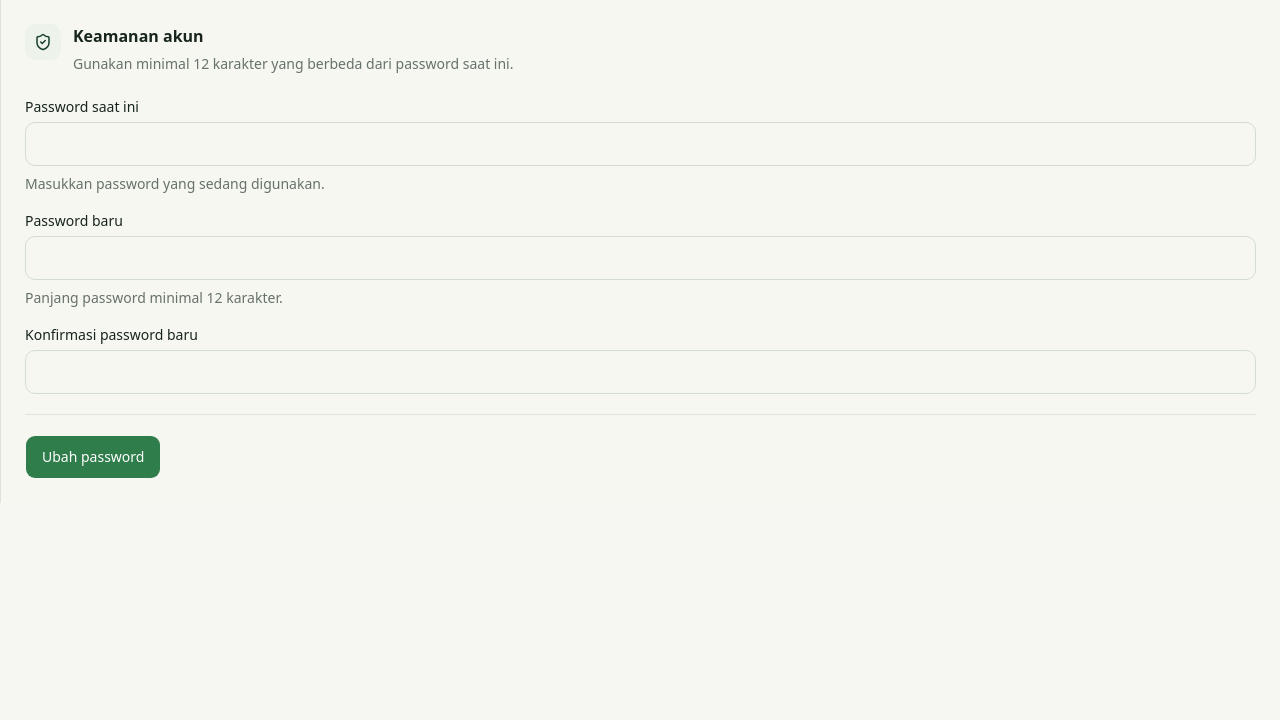
it: does not submit a password when confirmation differs
Expected: the heading "Keamanan akun" is shown, [73, 25, 204, 47]
Type "Current-password-2026" into the password field labelled "Password saat ini" at point(640, 144), box [25, 122, 1256, 166]
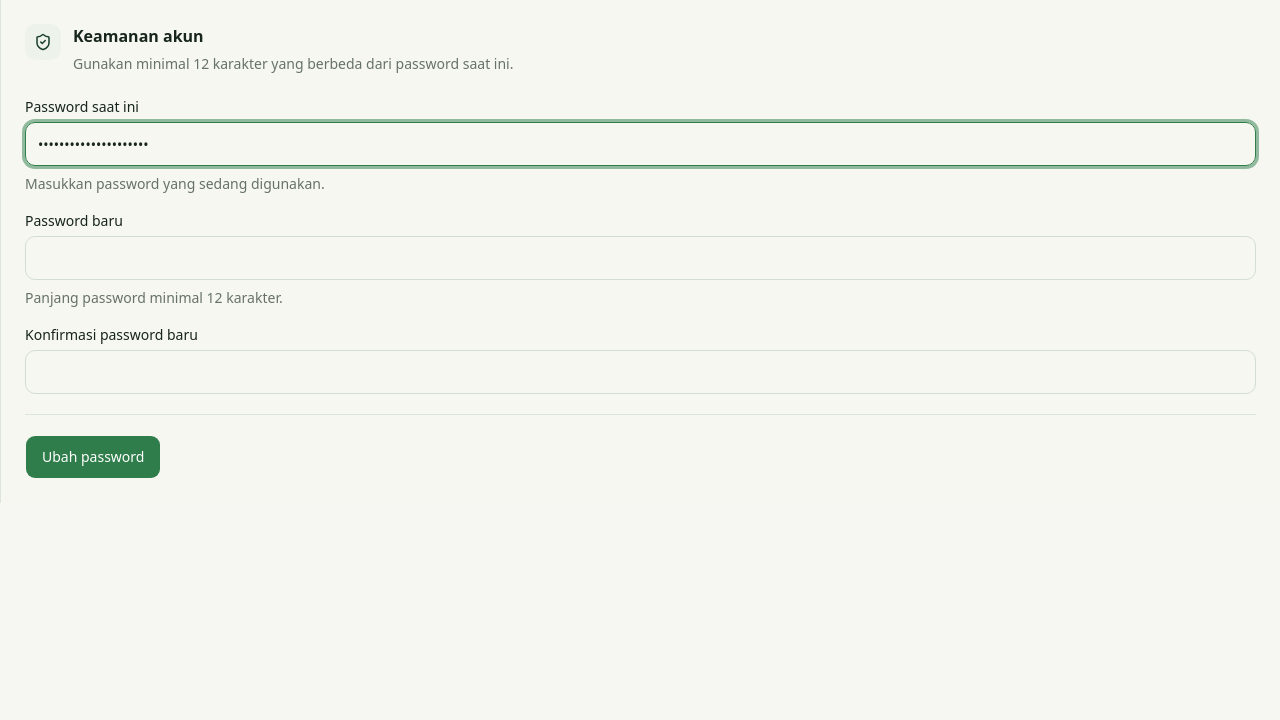
Type "New-password-2026" into the password field labelled "Password baru" at point(640, 258), box [25, 236, 1256, 280]
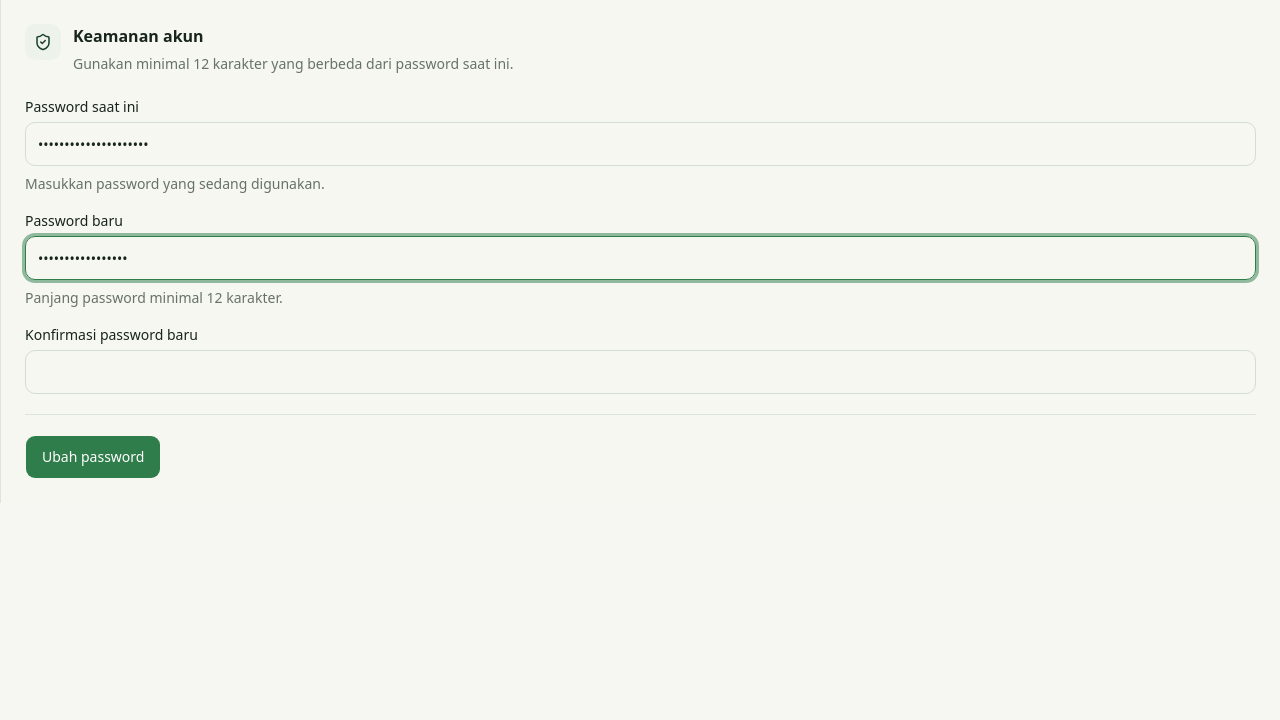
Type "Different-password-2026" into the password field labelled "Konfirmasi password baru" at point(640, 372), box [25, 350, 1256, 394]
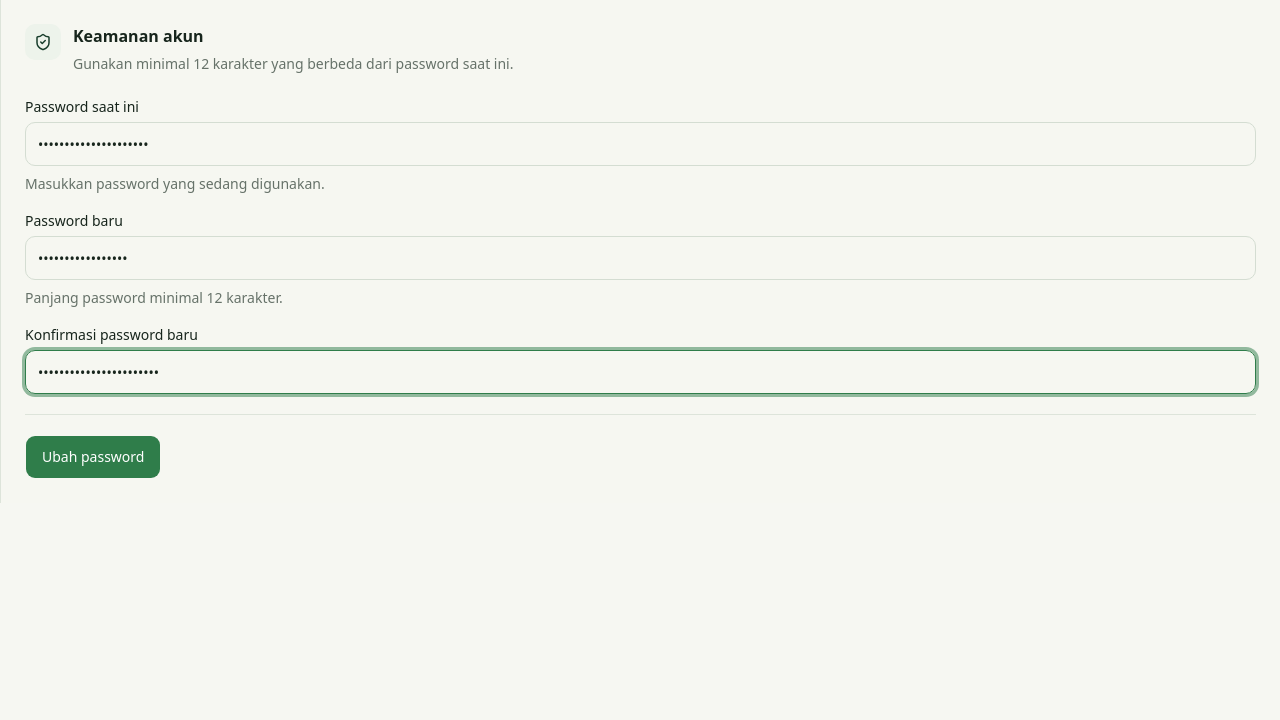
Click the button "Ubah password" at point(93, 457), box [25, 435, 162, 479]
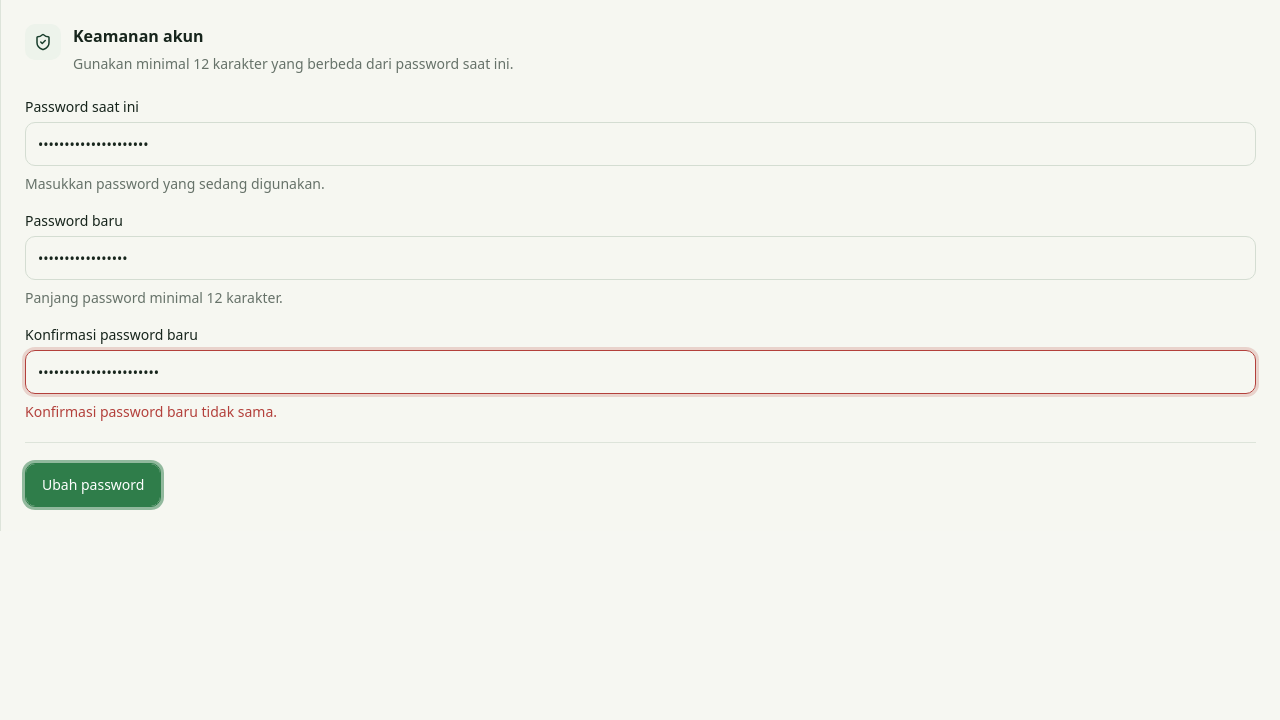
Now the text "Konfirmasi password baru tidak sama." is shown, box [25, 402, 277, 421]
